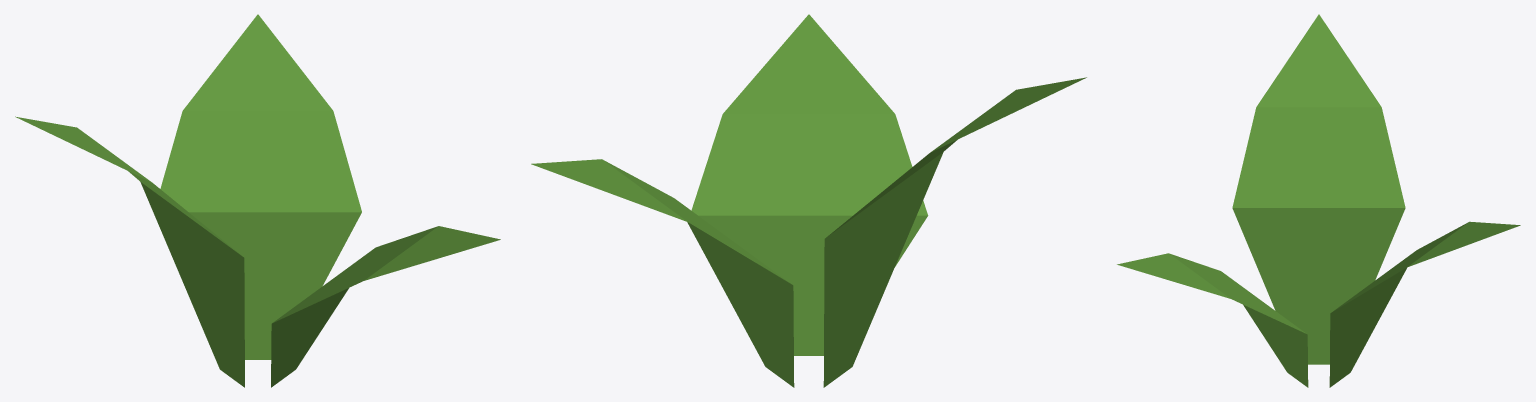
File: plant_bushTriangle.glb
3 renders of one model, left to right at view 1: azimuth 30°, elevation 25°; view 2: azimuth 150°, elevation 25°; view 3: azimuth 270°, elevation 25°, orthographic. The views are drawn at different scales.
Visible parts, largest first — view 1: plant_bushTriangle; view 2: plant_bushTriangle; view 3: plant_bushTriangle.
Part boxes in pixels (bbox=[...]): plant_bushTriangle: bbox=[15, 14, 500, 387]; plant_bushTriangle: bbox=[531, 14, 1086, 387]; plant_bushTriangle: bbox=[1117, 14, 1520, 387].
Size of the model in its own units: 0.3644 by 0.2955 by 0.4136.
